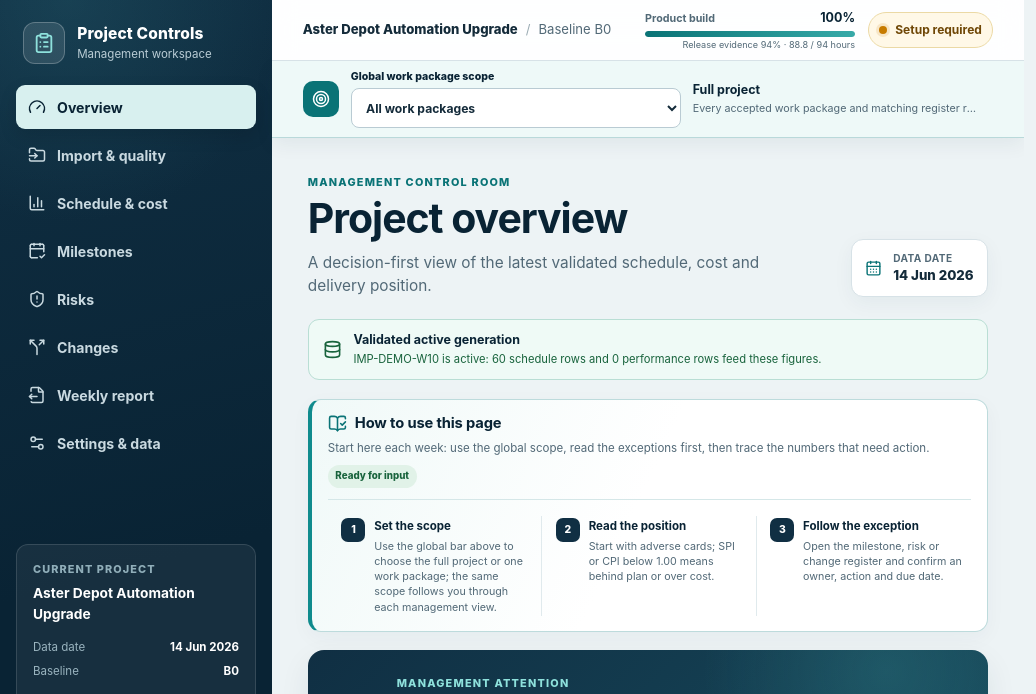
Test: project controls application › navigates to the risk register and exposes the heatmap as a table
Expected: the heading "Project overview" is shown, [308,193,627,243]
Click the link "Risks" at (61, 299), box [28,290,94,308]
(page scrolled)
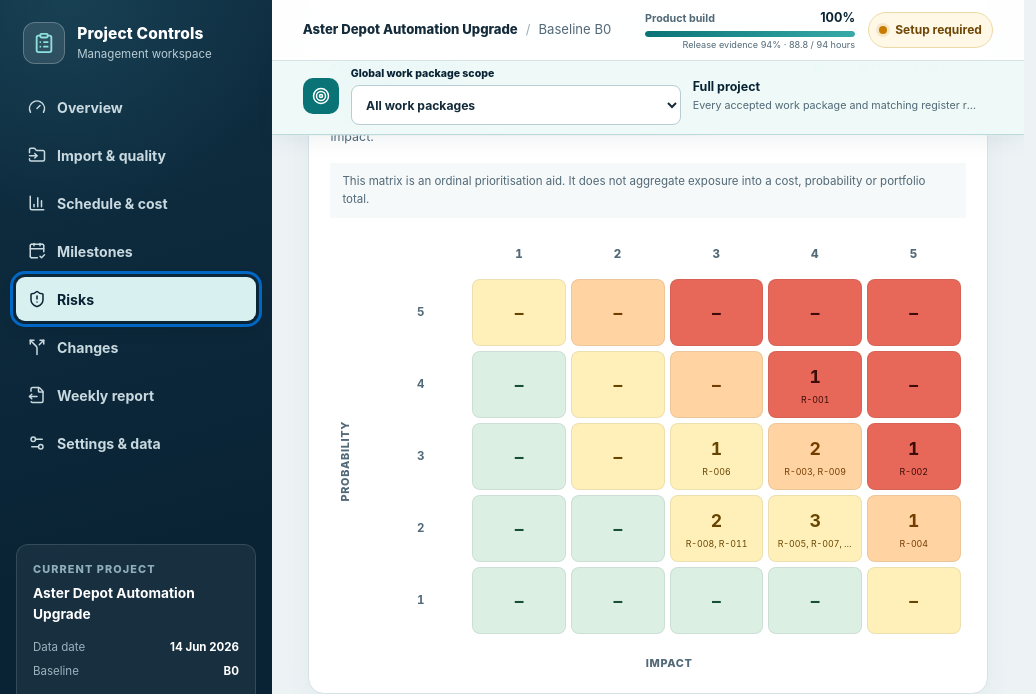
Result: the table named "Residual risk heatmap" is shown at [369,234,966,639]
Result: the button named "Probability 4, impact 4: 1 risk" shows "R-001" at [769,352,861,417]
